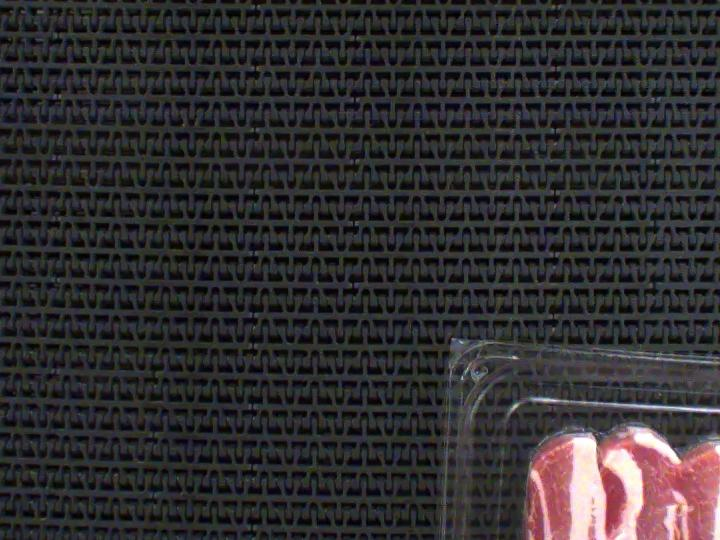unsealed: (507, 377, 720, 485)
